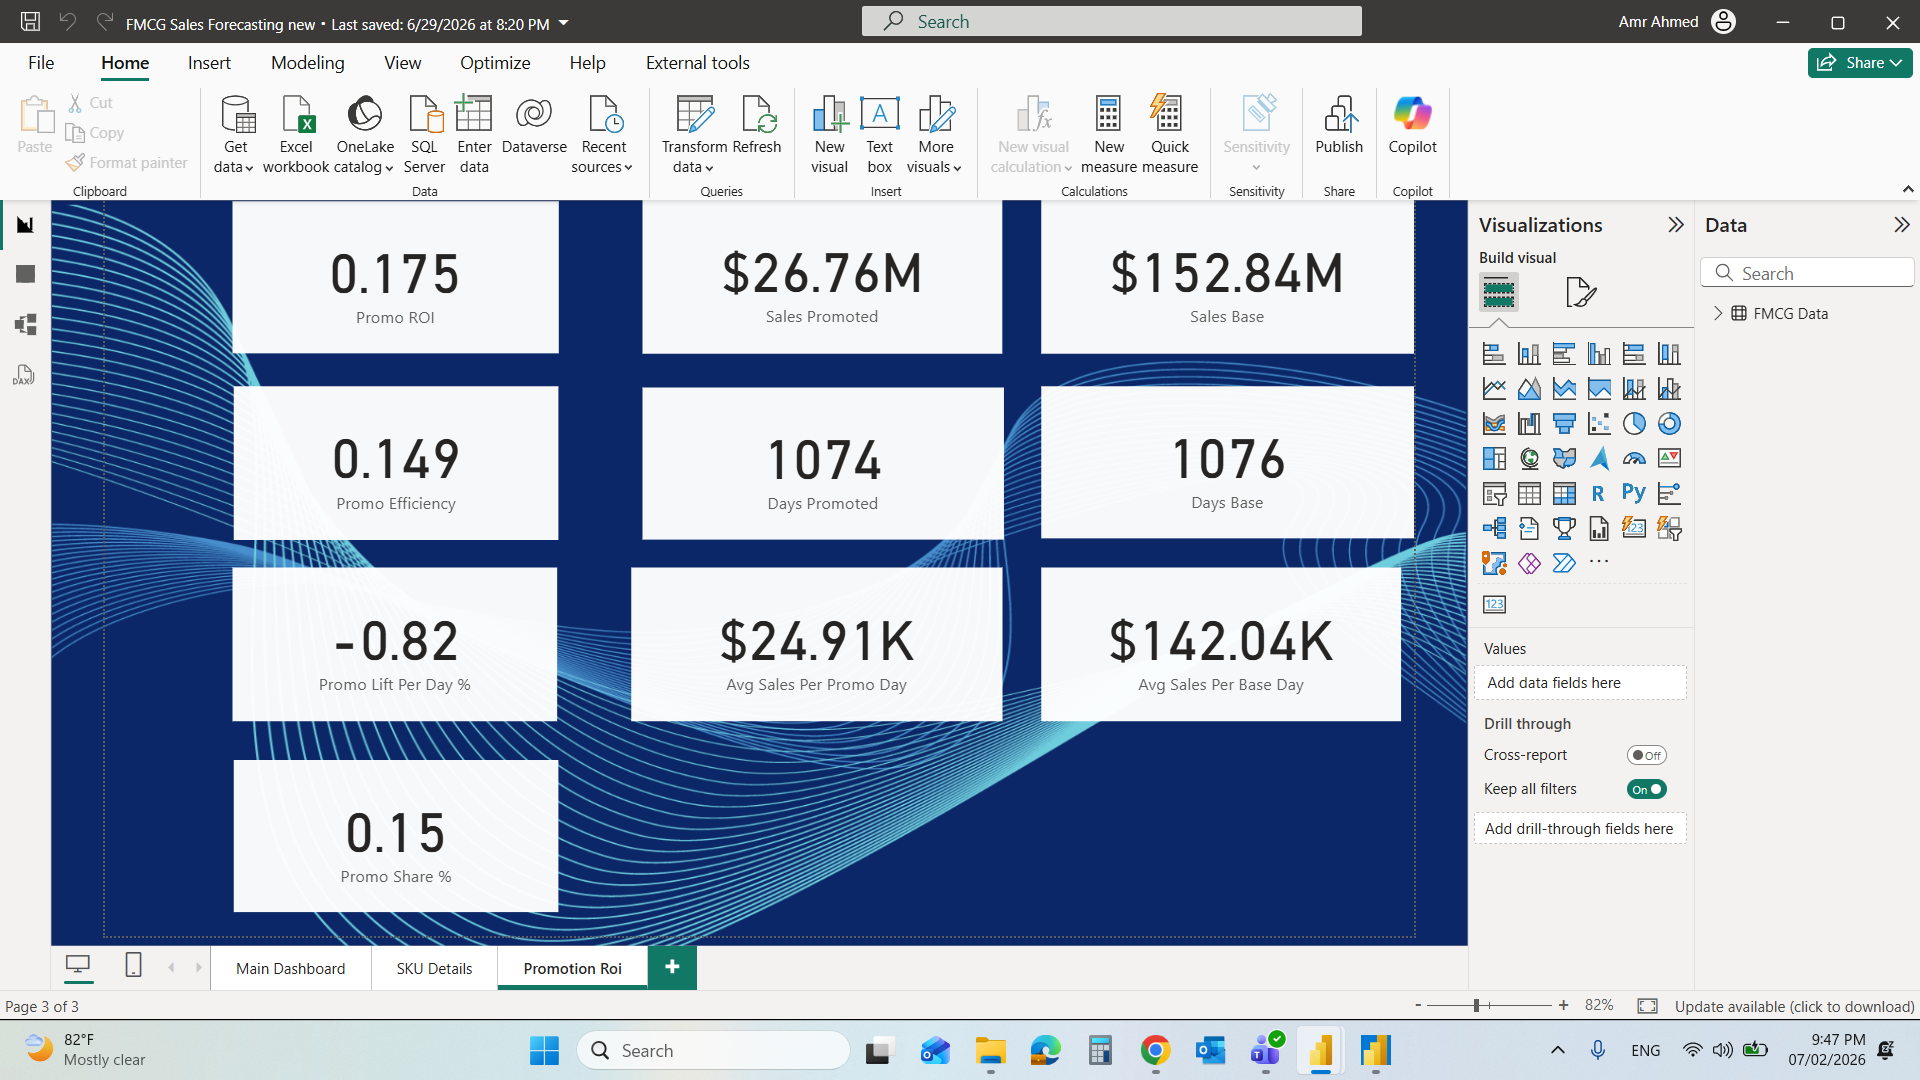

Layout of this report page (visuals, bound fields, positions):
{"tool":"powerbi","page":{"name":"Promotion  Roi","canvas":[1280,720],"ordinal":2},"visuals":[{"type":"card","fields":{"Values":["FMCG Data.Sales Promoted"]},"box":[525.8,0,352.2,150.4],"z":0},{"type":"card","fields":{"Values":["FMCG Data.Sales Base"]},"box":[915.9,0,364.4,150.4],"z":1000},{"type":"card","fields":{"Values":["FMCG Data.Promo Efficiency"]},"box":[126,182.2,317.9,150.4],"z":2000},{"type":"card","fields":{"Values":["FMCG Data.Days Base"]},"box":[915.9,182.2,364.4,149.2],"z":4000},{"type":"card","fields":{"Values":["FMCG Data.Days Promoted"]},"box":[525.8,183.4,353.4,149.2],"z":5000},{"type":"card","fields":{"Values":["FMCG Data.Avg Sales Per Promo Day"]},"box":[514.8,359.5,363.2,150.4],"z":6000},{"type":"card","fields":{"Values":["FMCG Data.Avg Sales Per Base Day"]},"box":[915.9,359.5,352.2,150.4],"z":7000},{"type":"card","fields":{"Values":["FMCG Data.Promo Lift Per Day %"]},"box":[124.7,359.5,317.9,150.4],"z":8000},{"type":"card","fields":{"Values":["FMCG Data.Promo ROI"]},"box":[124.7,1.2,319.2,149.2],"z":13000},{"type":"card","fields":{"Values":["FMCG Data.Promo Share %"]},"box":[126,547.8,317.9,149.2],"z":14000}]}

Visuals, with their boxes on the page's 1280x720 design canvas (x1, y1, x2, y2). These are canvas units, not pixel positions in the 1920x1080 screenshot, which may show the page scaled, cropped or inside an application window:
card - FMCG Data.Sales Promoted: select_region(526, 0, 878, 150)
card - FMCG Data.Sales Base: select_region(916, 0, 1280, 150)
card - FMCG Data.Promo Efficiency: select_region(126, 182, 444, 333)
card - FMCG Data.Days Base: select_region(916, 182, 1280, 331)
card - FMCG Data.Days Promoted: select_region(526, 183, 879, 333)
card - FMCG Data.Avg Sales Per Promo Day: select_region(515, 360, 878, 510)
card - FMCG Data.Avg Sales Per Base Day: select_region(916, 360, 1268, 510)
card - FMCG Data.Promo Lift Per Day %: select_region(125, 360, 443, 510)
card - FMCG Data.Promo ROI: select_region(125, 1, 444, 150)
card - FMCG Data.Promo Share %: select_region(126, 548, 444, 697)
